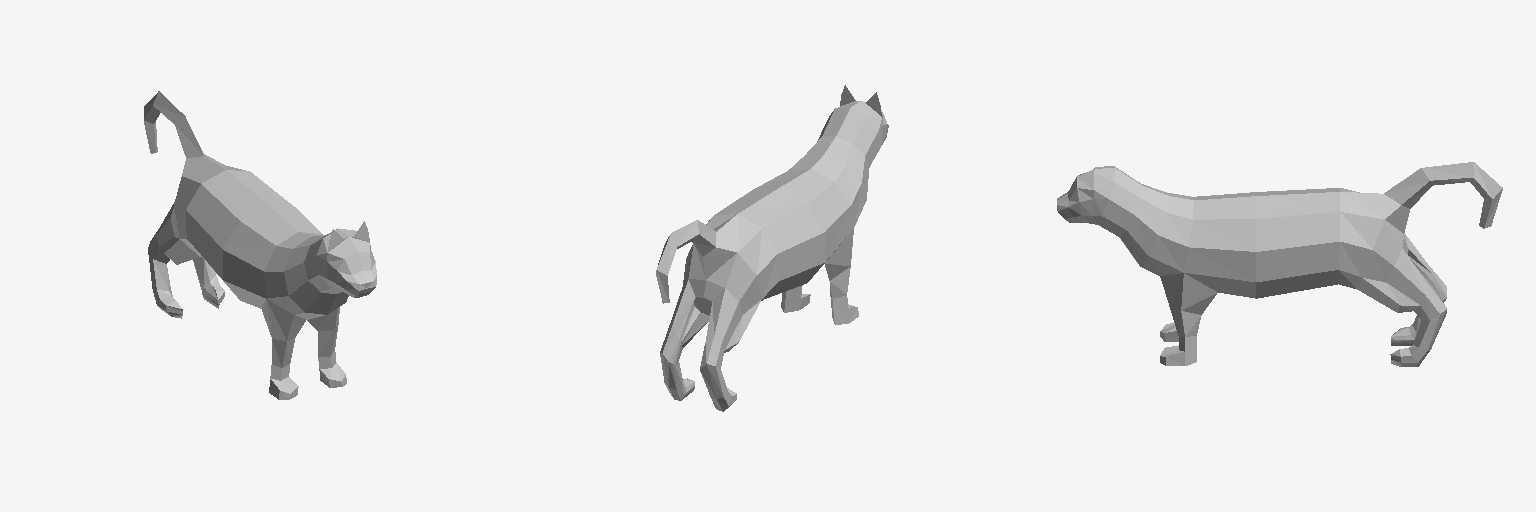
Rendered from kitty.obj.
The picture shows the model from 3 angles: view 1: azimuth 30°, elevation 25°; view 2: azimuth 150°, elevation 25°; view 3: azimuth 270°, elevation 25°; orthographic projection.
Visible parts, largest first — view 1: Cylinder; view 2: Cylinder; view 3: Cylinder.
Part boxes in pixels (x1,y1,x2,y2): Cylinder: (144, 91, 376, 399); Cylinder: (656, 85, 888, 411); Cylinder: (1057, 162, 1502, 366).
Bounding box in the file's own units: 213 × 453 × 919.